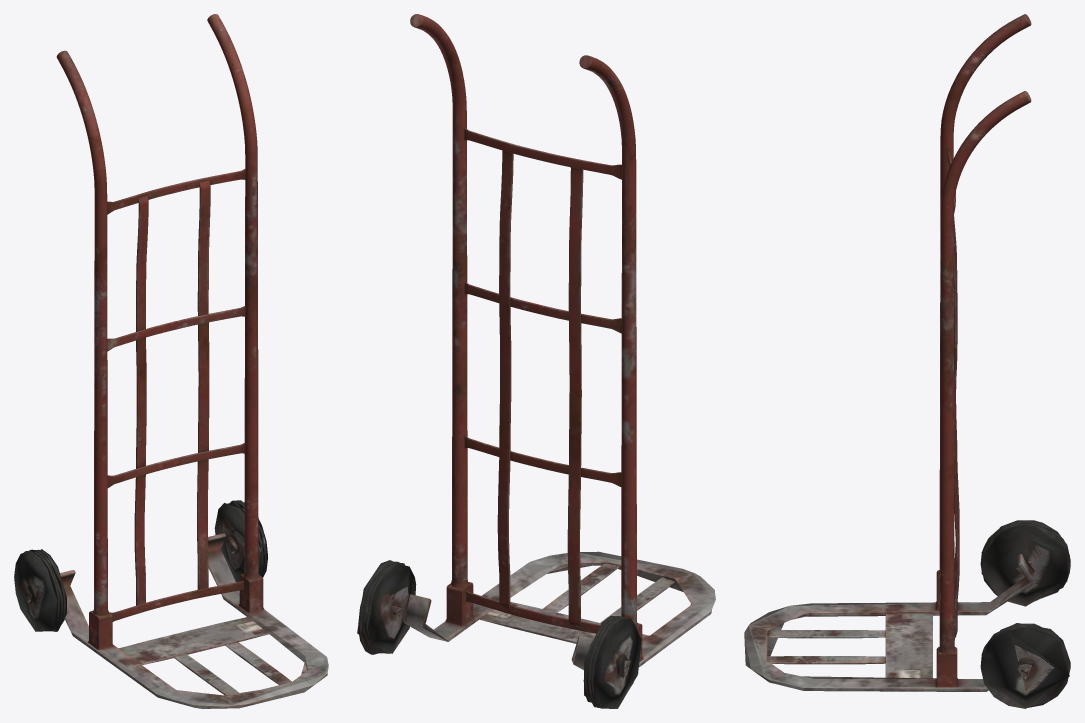
Rendered from hand_truck.glb.
3 renders of one model, left to right at view 1: azimuth 30°, elevation 25°; view 2: azimuth 150°, elevation 25°; view 3: azimuth 270°, elevation 25°, orthographic. The views are drawn at different scales.
Visible parts, largest first — view 1: hand_truck; view 2: hand_truck; view 3: hand_truck.
Part boxes in pixels (bbox=[...]): hand_truck: bbox=[14, 14, 328, 708]; hand_truck: bbox=[357, 14, 715, 708]; hand_truck: bbox=[744, 14, 1070, 708].
Bounding box in the file's own units: 0.5861 × 1.4 × 0.6907.
1 material, 1 textured.
